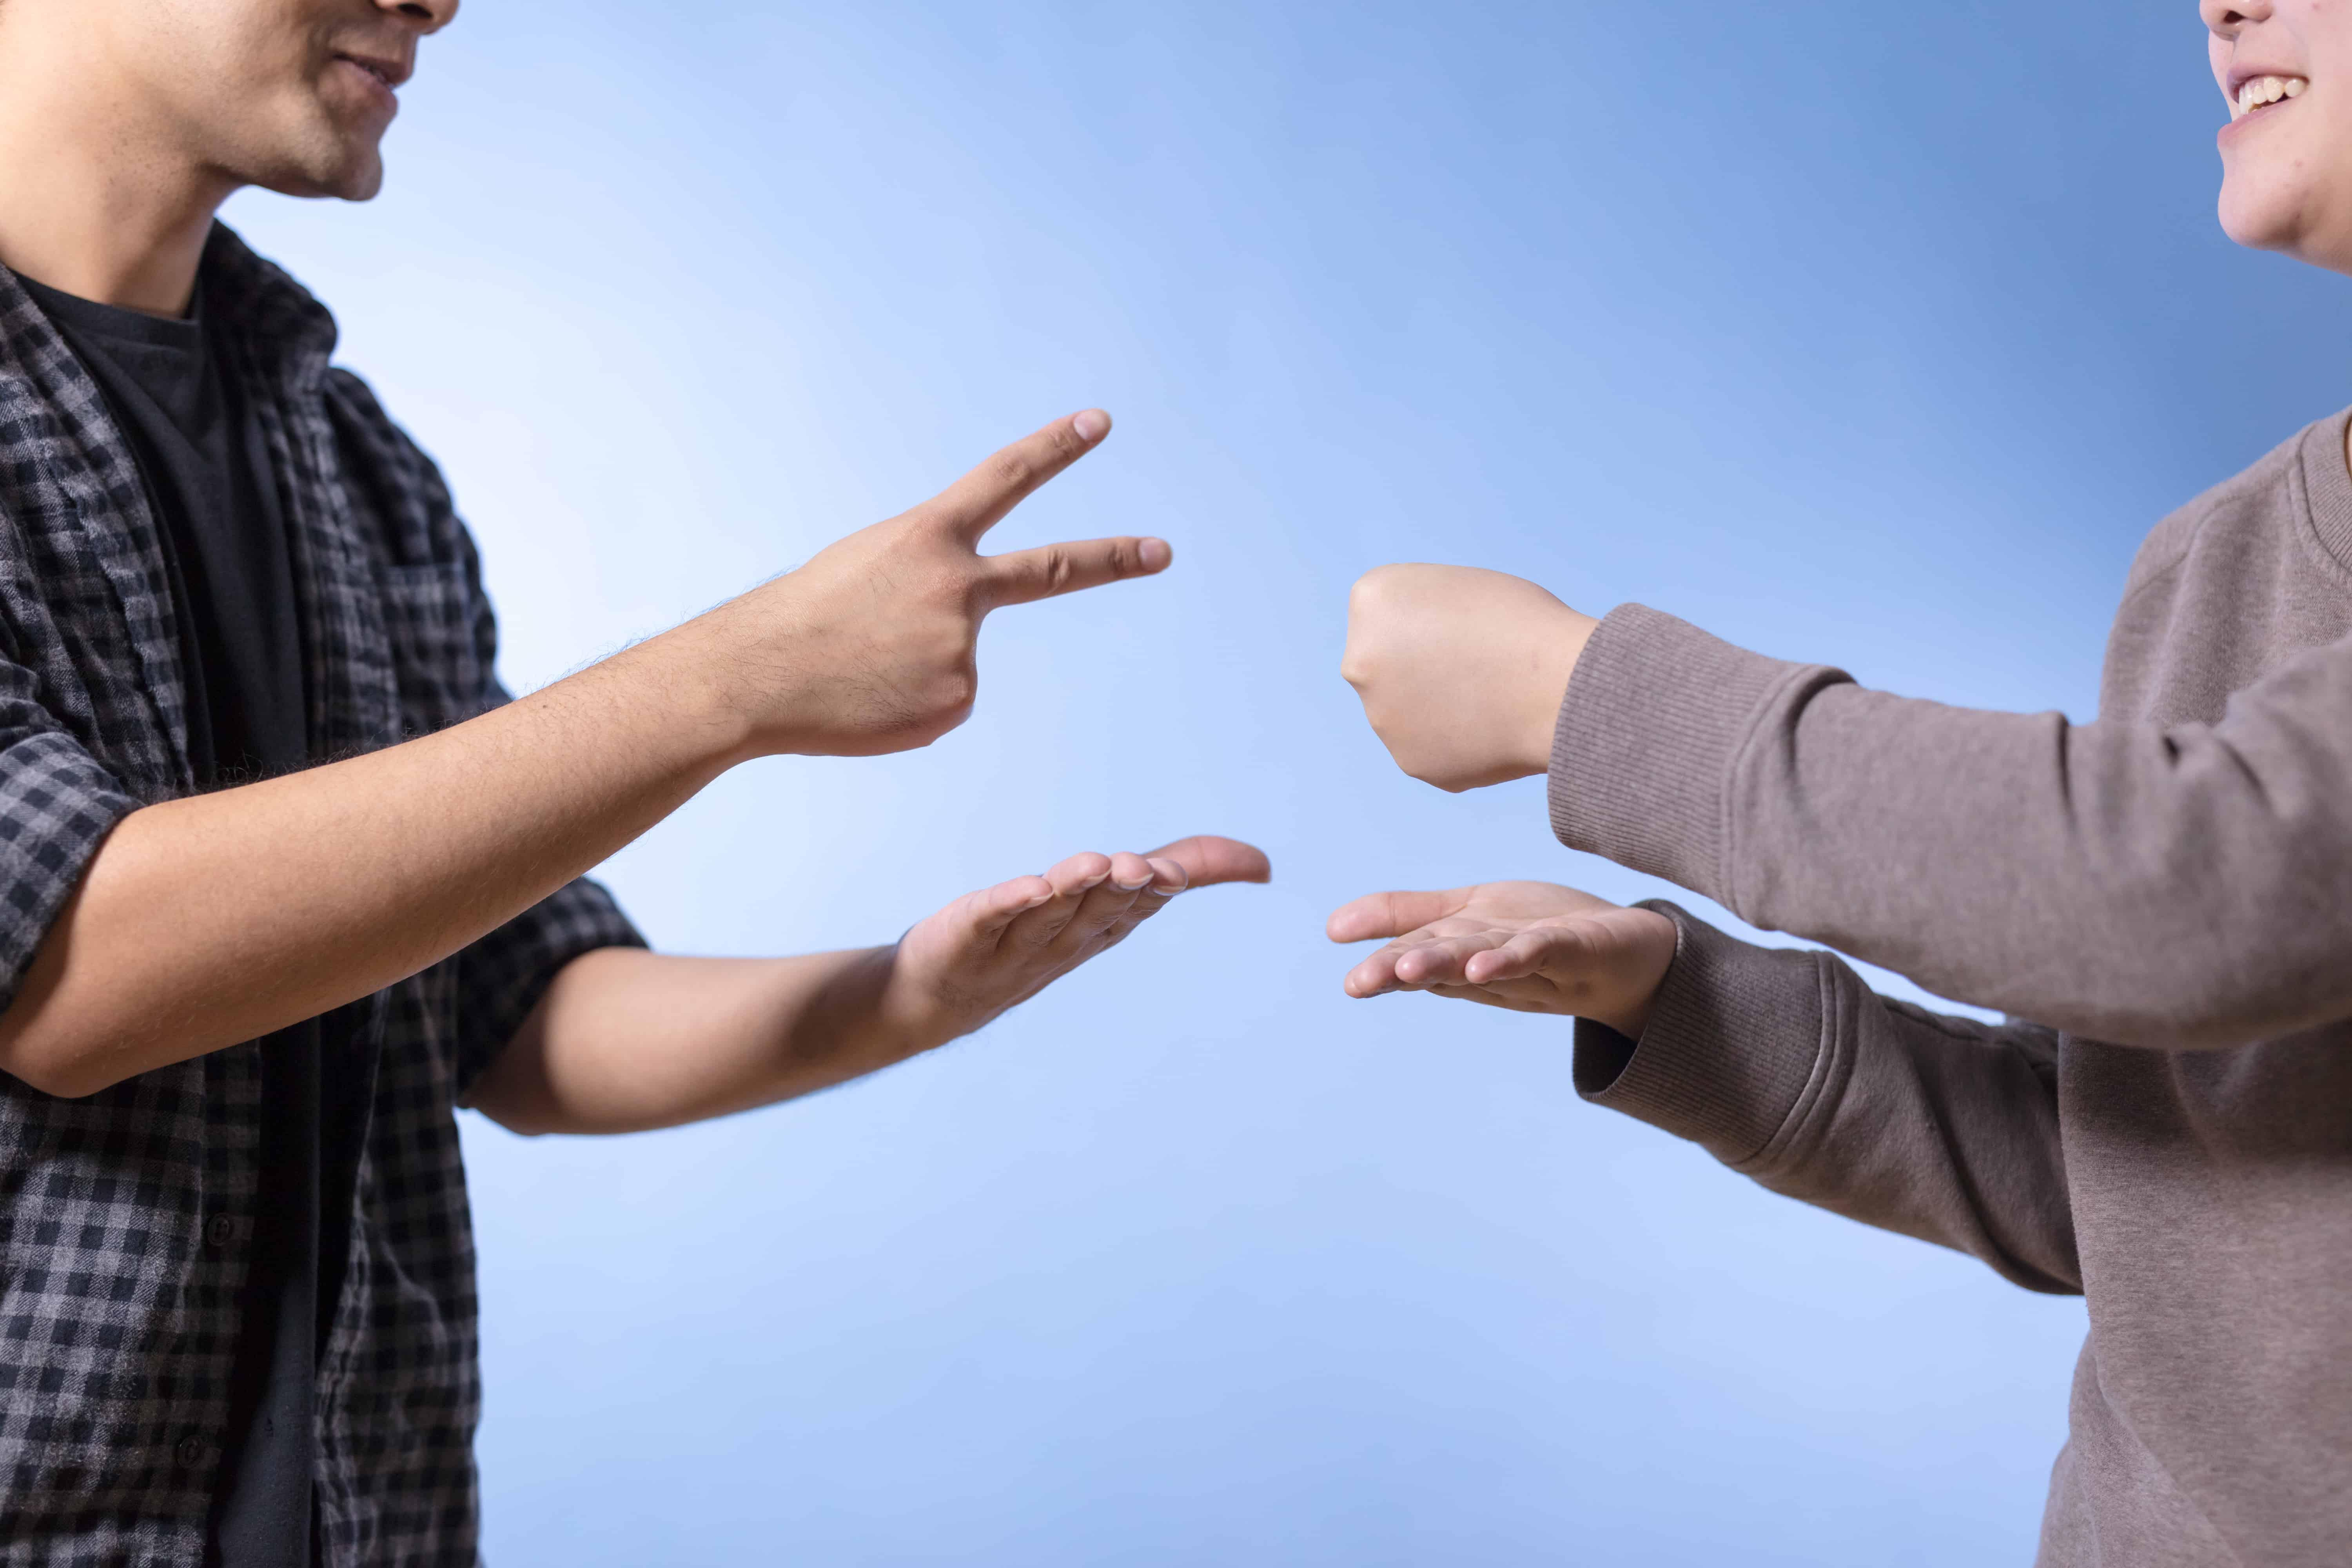rock: (1323, 520, 1601, 831)
scissors: (777, 376, 1194, 773)
